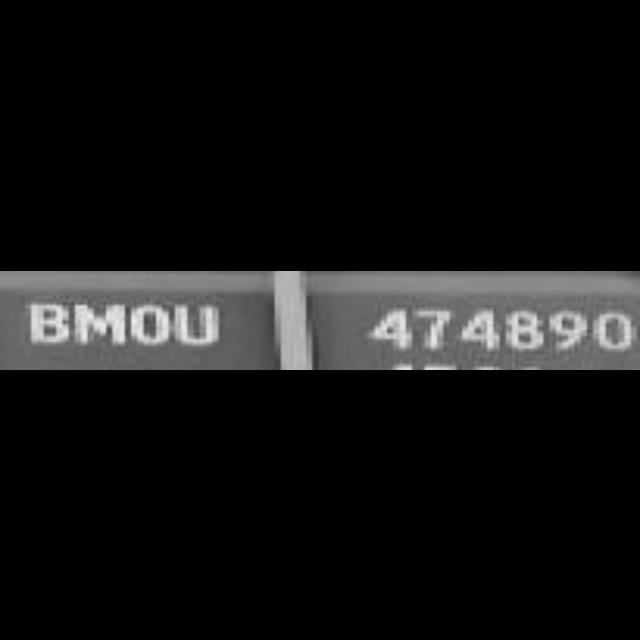0: (592, 307, 636, 355)
4: (369, 302, 415, 358), (459, 302, 503, 354)
7: (414, 300, 454, 358)
8: (504, 300, 548, 356)
9: (546, 299, 588, 355)
b: (26, 298, 72, 350)
m: (72, 296, 128, 350)
o: (129, 295, 171, 349)
u: (172, 298, 222, 350)
